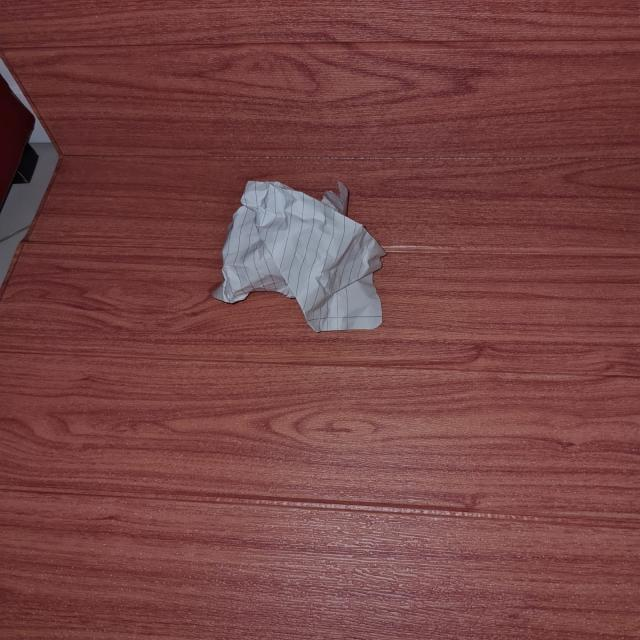Paper: (218, 181, 384, 327)
